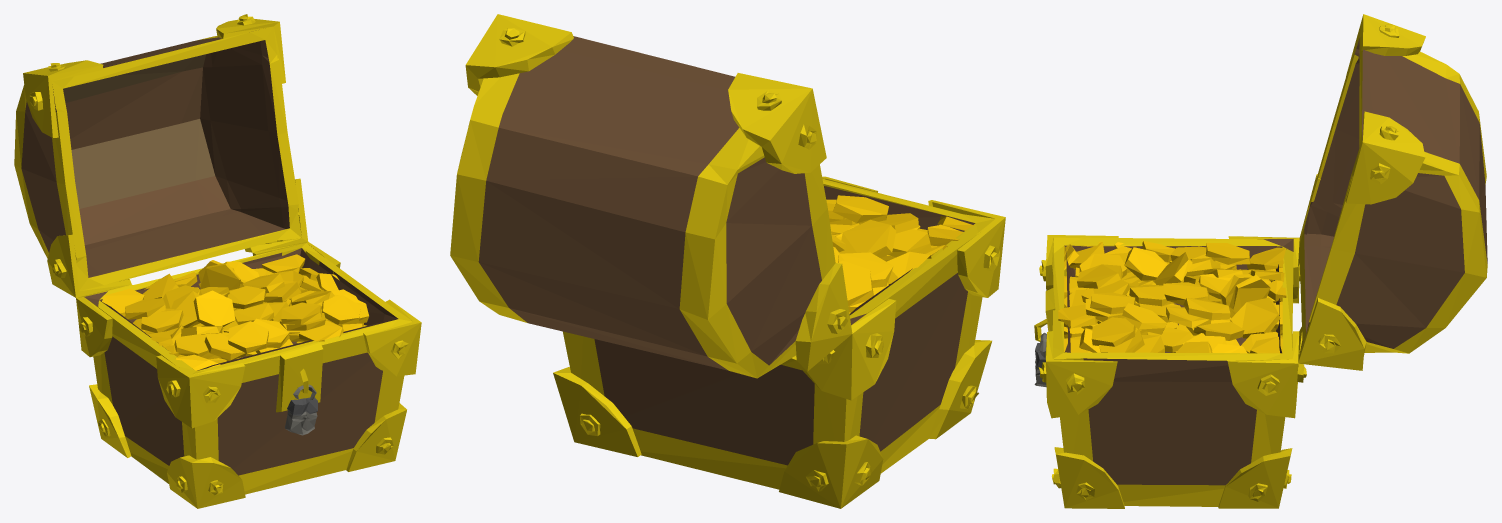
Rendered from RG-Dungeon_Chest-opened.fbx.
The picture shows the model from 3 angles, left to right: view 1: azimuth 30°, elevation 25°; view 2: azimuth 150°, elevation 25°; view 3: azimuth 270°, elevation 25°; orthographic projection. The views are drawn at different scales.
Parts seen in each view (by area): view 1: RG-Dungeon_Chest-opened; view 2: RG-Dungeon_Chest-opened; view 3: RG-Dungeon_Chest-opened.
Part boxes in pixels (bbox=[...]): RG-Dungeon_Chest-opened: bbox=[14, 14, 421, 508]; RG-Dungeon_Chest-opened: bbox=[450, 14, 1005, 508]; RG-Dungeon_Chest-opened: bbox=[1034, 14, 1487, 508].
Bounding box in the file's own units: 3.88 × 5.09 × 5.5.
